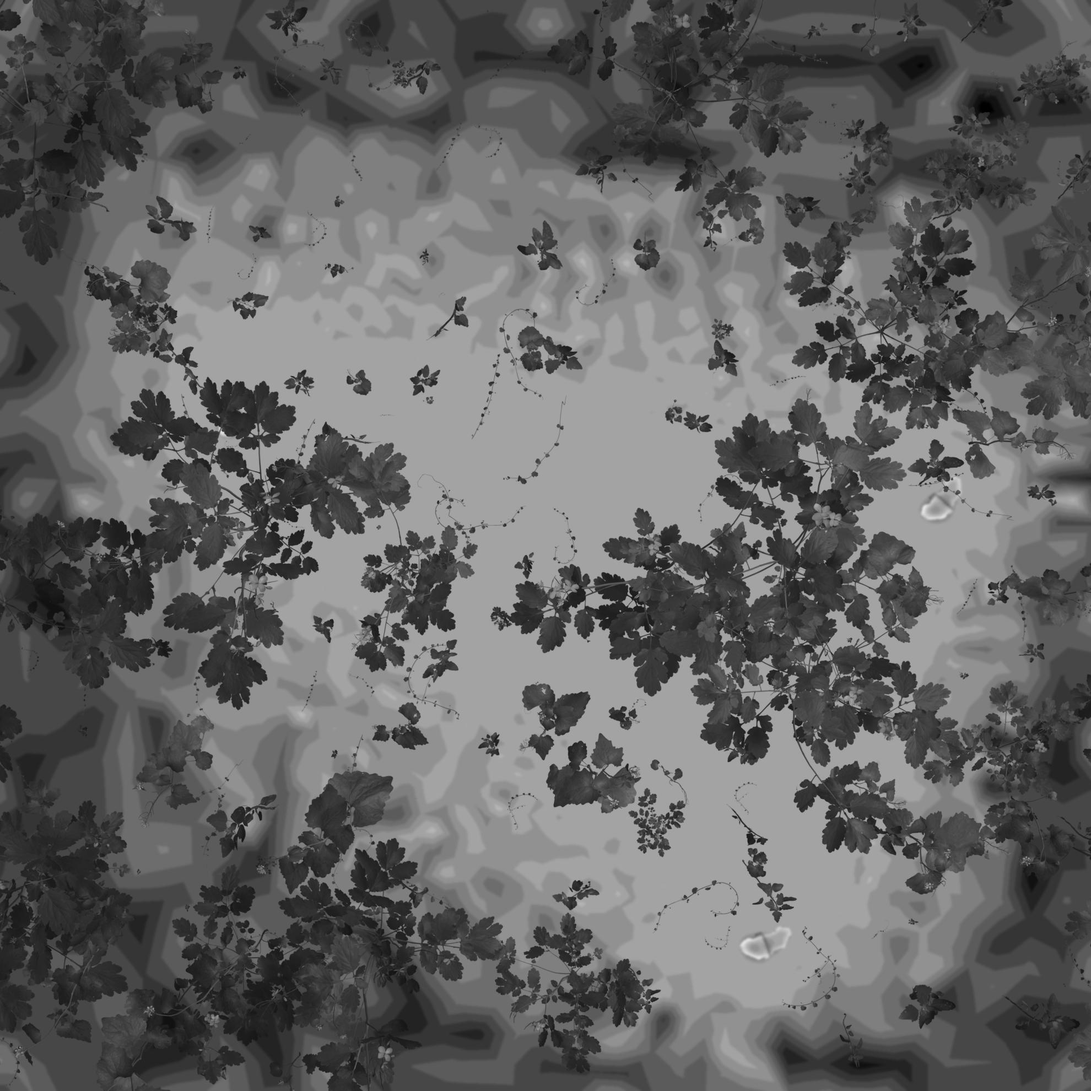landmine: (918, 473, 967, 523), (736, 922, 796, 960)
